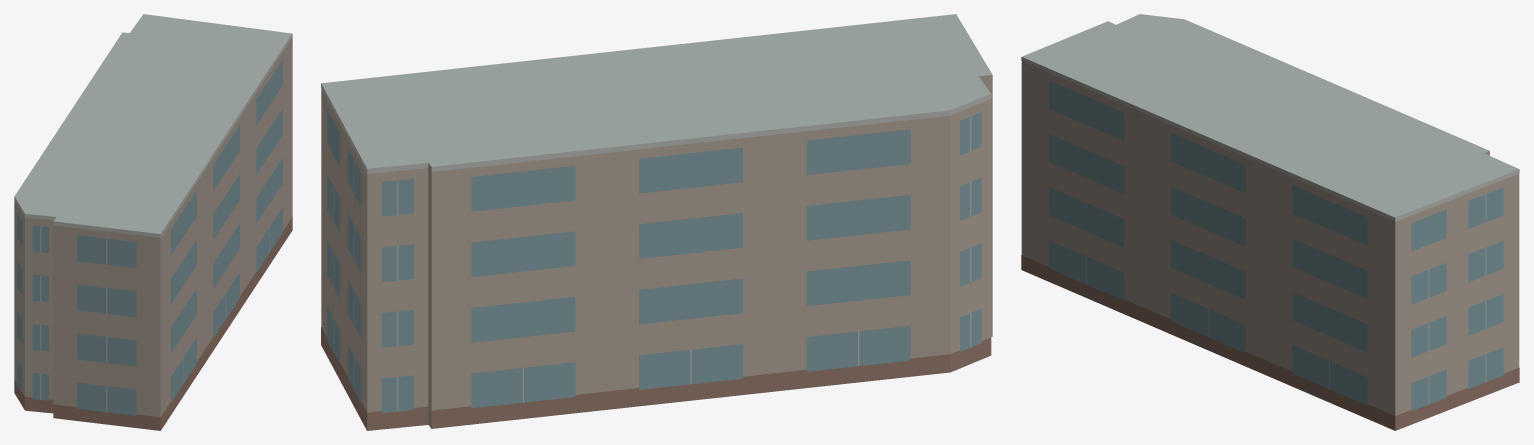
File: survey-upis-32623871.glb
3 views of the same model, side by side, from view 1: azimuth 30°, elevation 25°; view 2: azimuth 150°, elevation 25°; view 3: azimuth 270°, elevation 25° (orthographic). The views are drawn at different scales.
Parts seen in each view (by area): view 1: survey-upis-32623871.tmp; view 2: survey-upis-32623871.tmp; view 3: survey-upis-32623871.tmp.
Part boxes in pixels (x1,y1,x2,y2): survey-upis-32623871.tmp: [14, 14, 292, 430]; survey-upis-32623871.tmp: [321, 14, 992, 430]; survey-upis-32623871.tmp: [1021, 14, 1519, 430].
Size of the model in its own units: 25.41 by 12.4 by 26.25.
